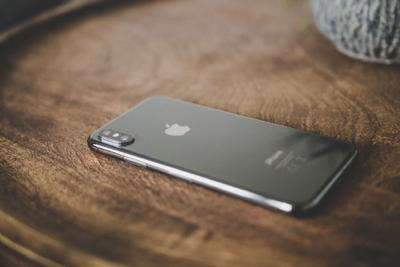Mobile Phone: (86, 93, 358, 216)
